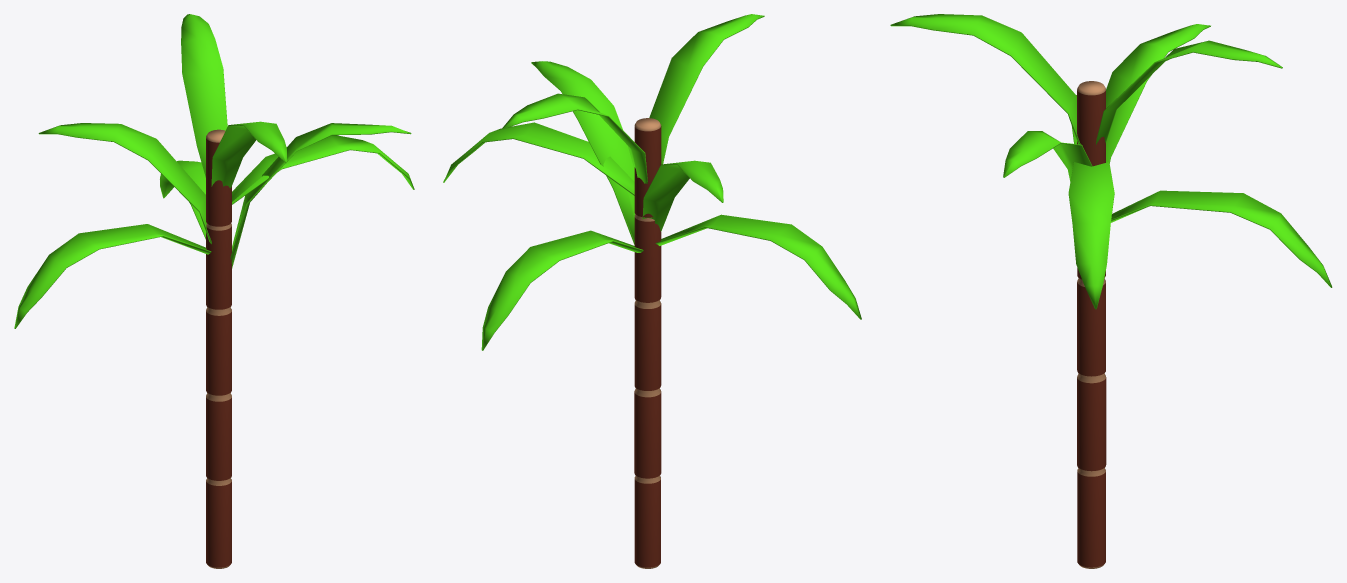
The model's file is Sugar Cane.fbx.
The picture shows the model from 3 angles, left to right: view 1: azimuth 30°, elevation 25°; view 2: azimuth 150°, elevation 25°; view 3: azimuth 270°, elevation 25°; orthographic projection. The views are drawn at different scales.
Parts seen in each view (by area): view 1: Plane.003, Cylinder, Plane.004, Plane.005, Plane.002; view 2: Plane.003, Cylinder, Plane.005, Plane.002, Plane.004; view 3: Plane.003, Cylinder, Plane.002, Plane.004, Plane.005.
Part boxes in pixels (x1,y1,x2,y2): Plane.003: (14, 14, 414, 328); Cylinder: (206, 129, 231, 568); Plane.004: (38, 123, 211, 244); Plane.005: (230, 123, 411, 268); Plane.002: (160, 160, 205, 239); Plane.003: (443, 14, 861, 319); Cylinder: (634, 118, 661, 568); Plane.005: (531, 61, 634, 244); Plane.002: (481, 230, 643, 350); Plane.004: (642, 160, 723, 231); Plane.003: (890, 14, 1282, 309); Cylinder: (1077, 81, 1106, 568); Plane.002: (1111, 190, 1332, 287); Plane.004: (1106, 24, 1210, 163); Plane.005: (1003, 131, 1092, 181).
Bounding box in the file's own units: 446 × 510 × 381.
